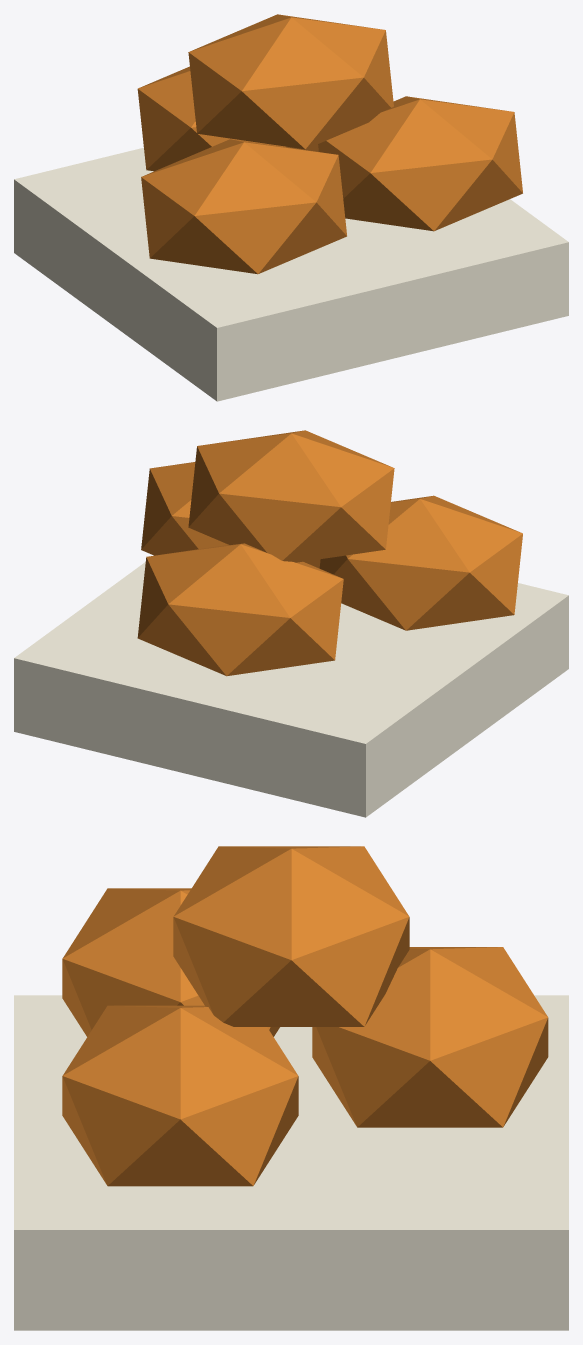
File: chicken_nuggets.glb
3 renders of one model, top to bottom at view 1: azimuth 30°, elevation 25°; view 2: azimuth 150°, elevation 25°; view 3: azimuth 270°, elevation 25°, orthographic. The views are drawn at different scales.
Visible parts, largest first — view 1: chicken_nuggets; view 2: chicken_nuggets; view 3: chicken_nuggets.
Part boxes in pixels (x1,y1,x2,y2): chicken_nuggets: [14, 14, 568, 401]; chicken_nuggets: [14, 430, 568, 817]; chicken_nuggets: [14, 846, 568, 1330].
Size of the model in its own units: 0.1037 by 0.0725 by 0.1.
